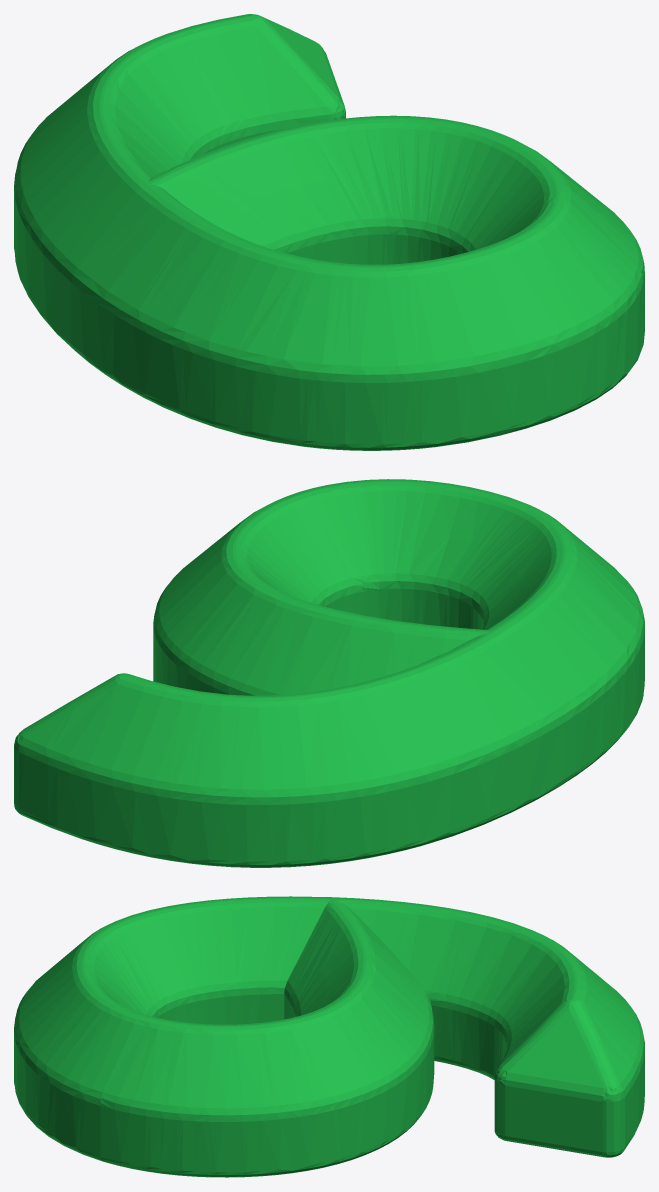
3 views of the same model, one above another, from view 1: azimuth 30°, elevation 25°; view 2: azimuth 150°, elevation 25°; view 3: azimuth 270°, elevation 25° (orthographic). The views are drawn at different scales.
Size of the model in its own units: 0.0174 by 0.00532 by 0.0246.
